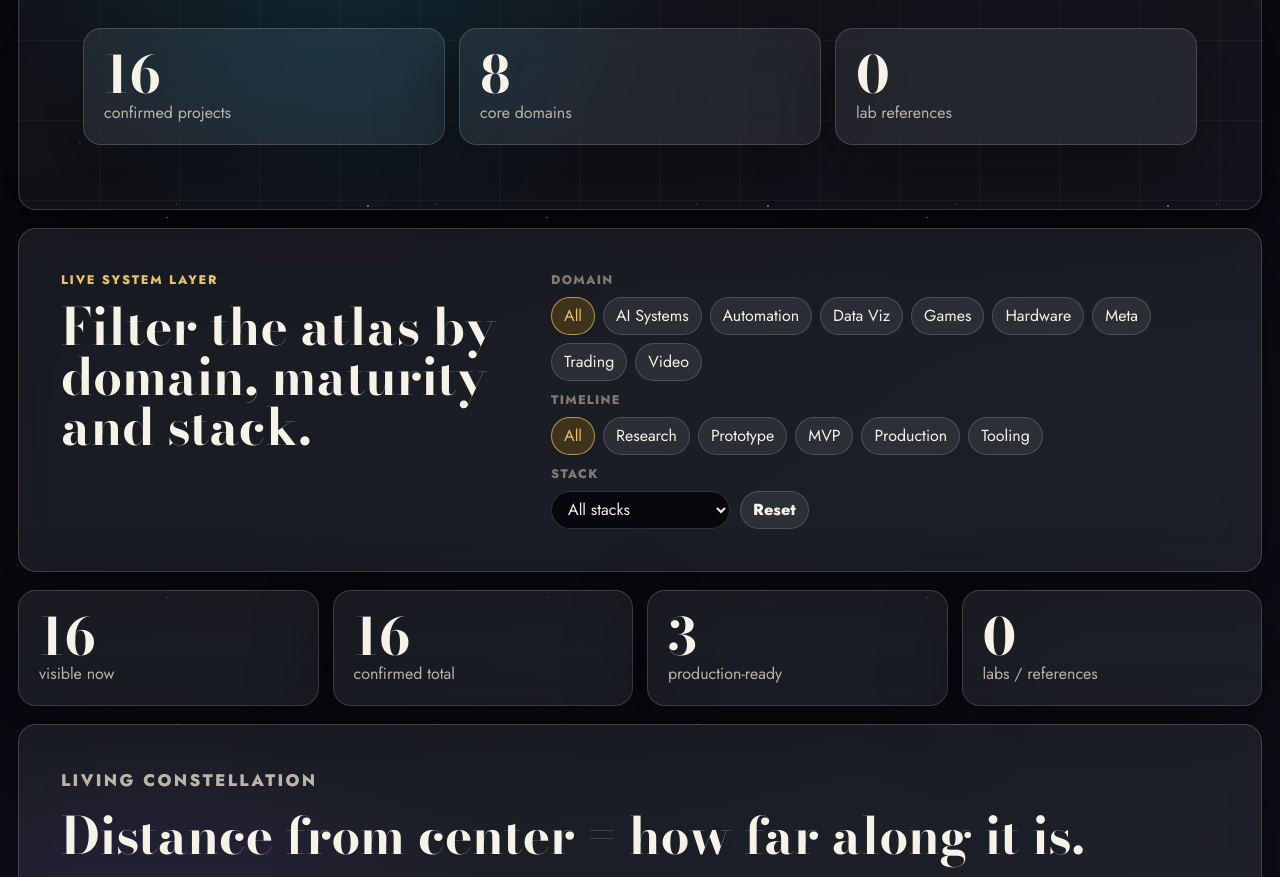
Project roadmap app interactions › filters the visible grid by project stage
(page scrolled)
Click the button with aria-label "Filter stage Production": (911,436) top-left (862, 416), bottom-right (960, 454)
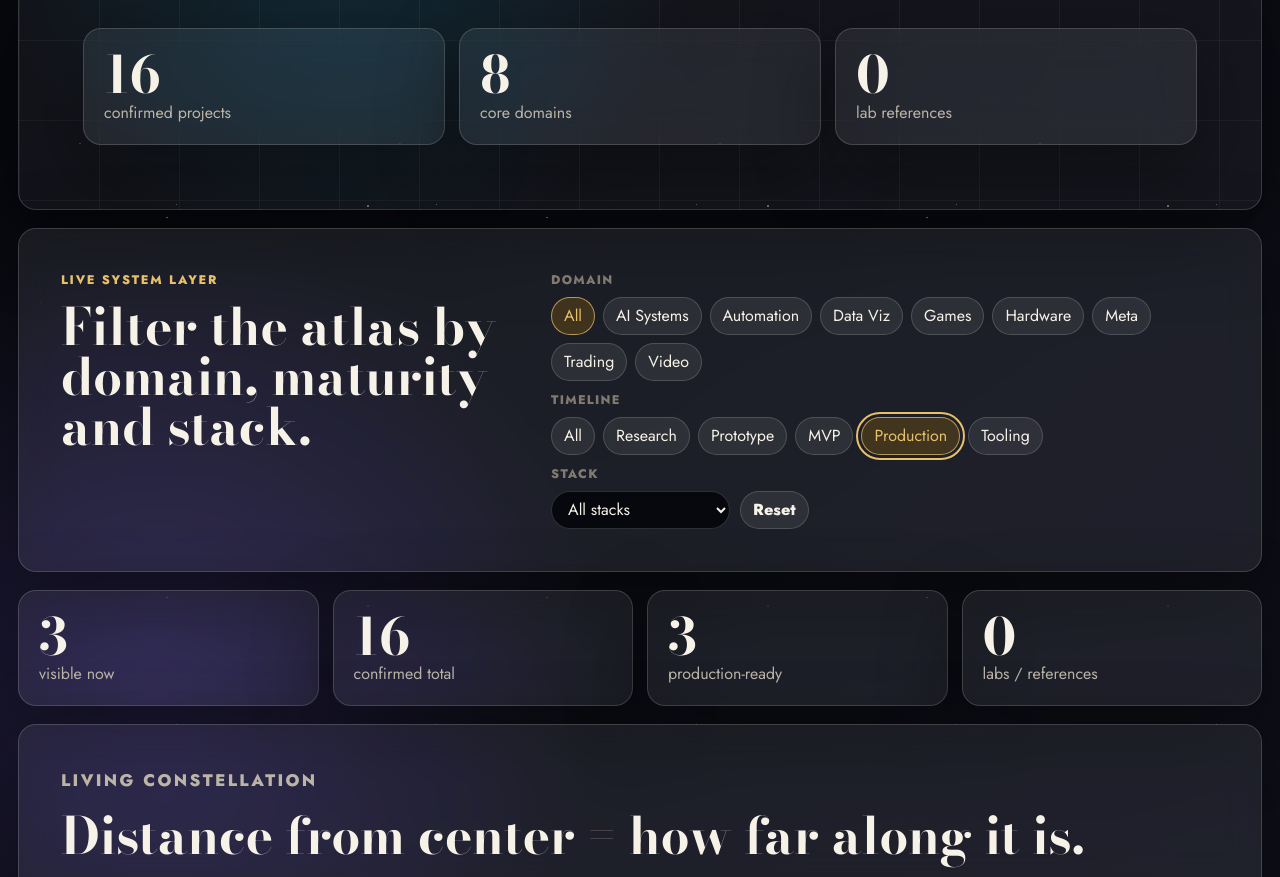
Check: the text with test id "visible-project-count" reads "3", box top-left (39, 596), bottom-right (68, 674)
